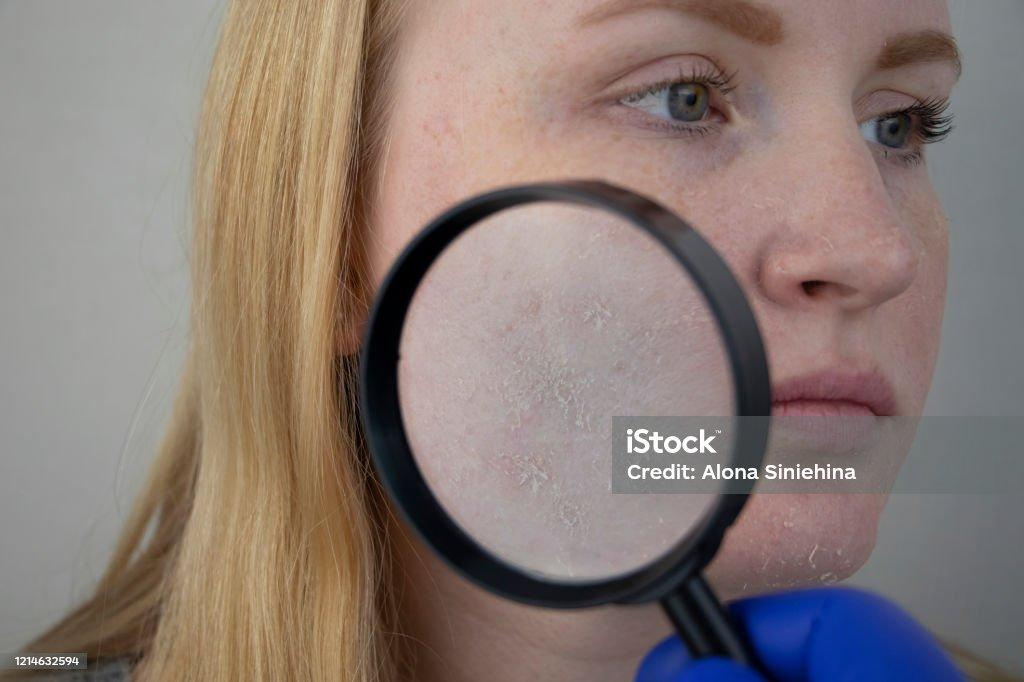Dry-Skin: (441, 348, 698, 549), (783, 158, 943, 329), (421, 56, 600, 197), (761, 461, 891, 594)
